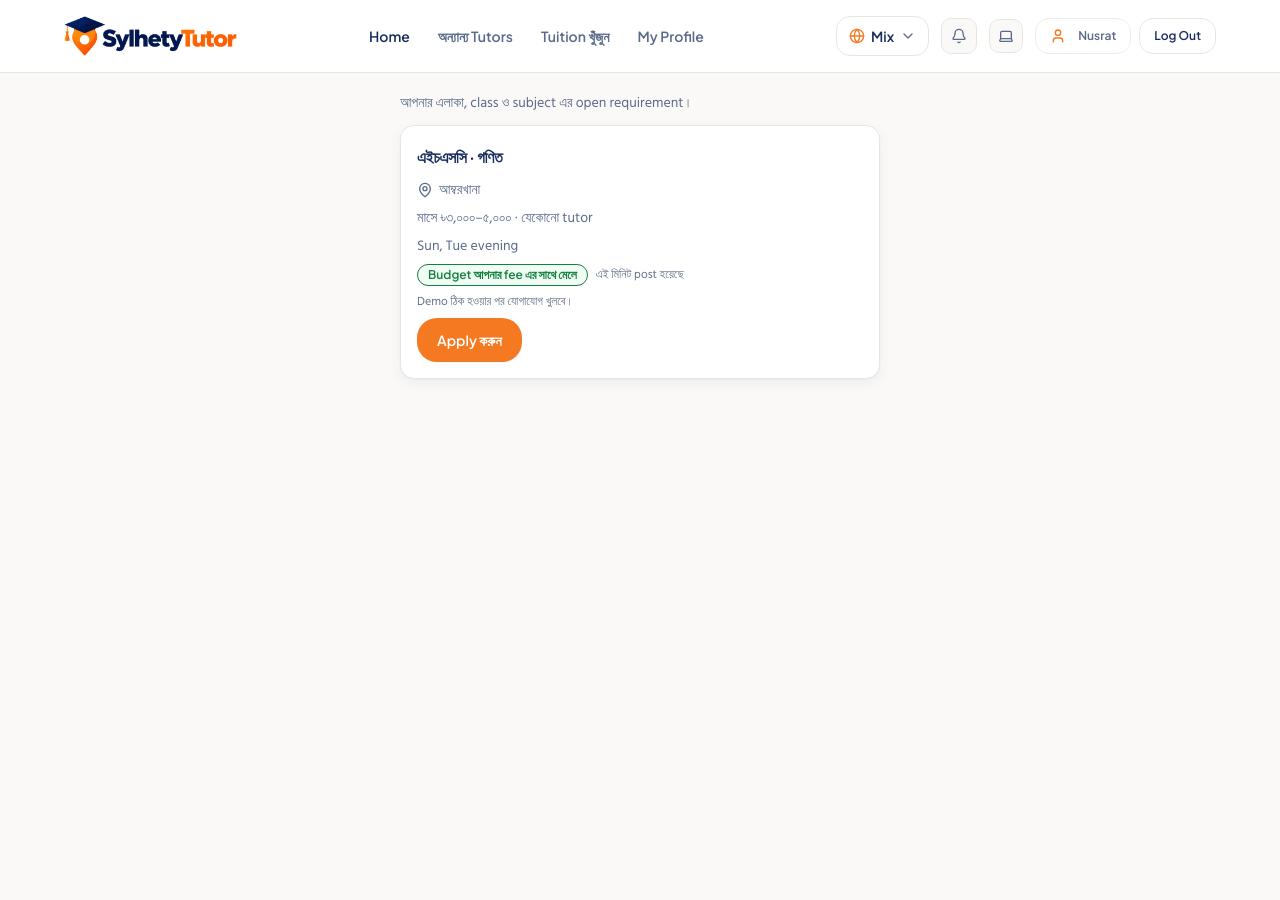
Scenario: TutorRequirements page › sends an application with the note and then shows 'applied'
Click the button "Apply করুন".
click(469, 340)  # box [417, 318, 522, 362]
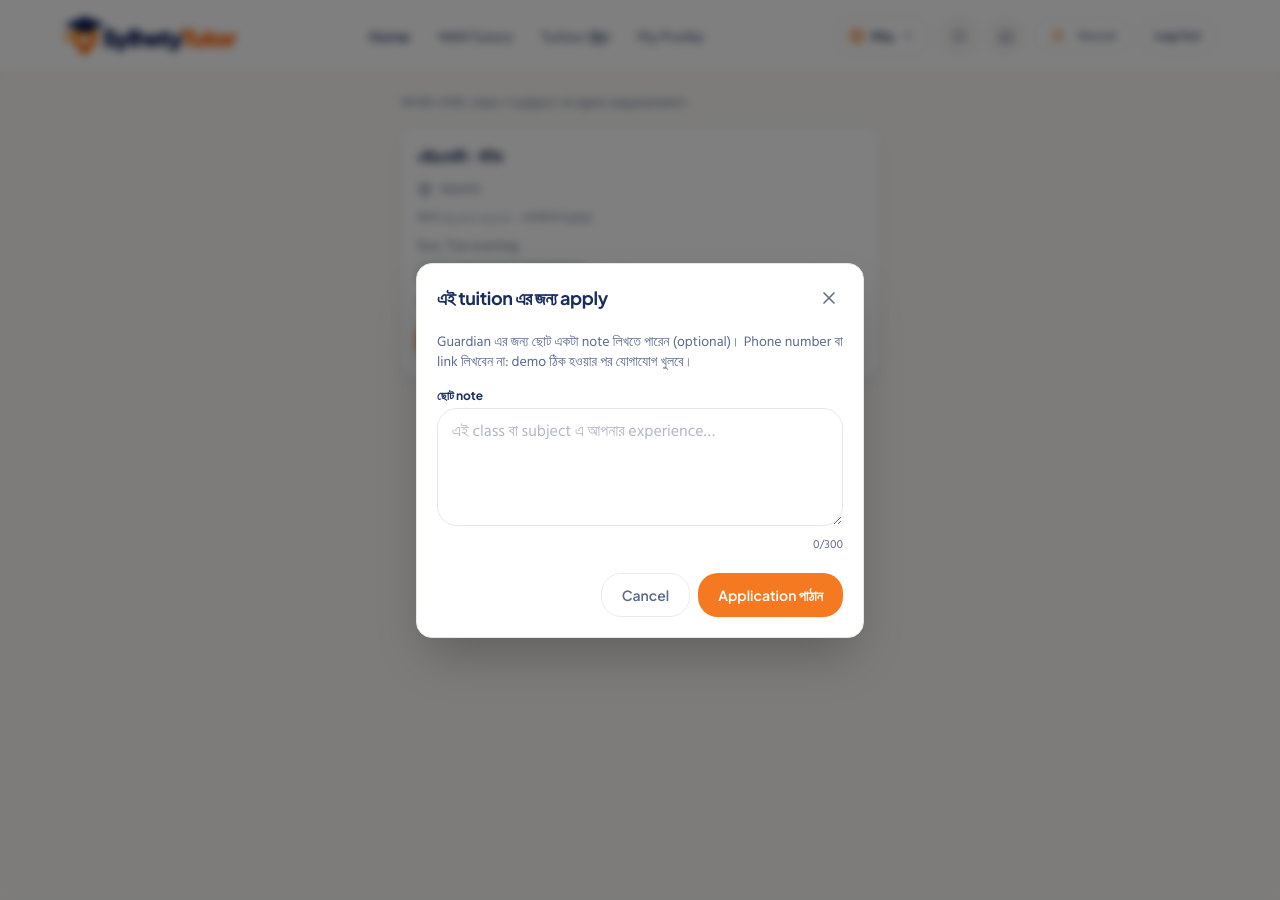
Type "I teach HSC math" into the text box labelled "ছোট note".
click(640, 467); type("I teach HSC math")  # box [437, 408, 843, 526]
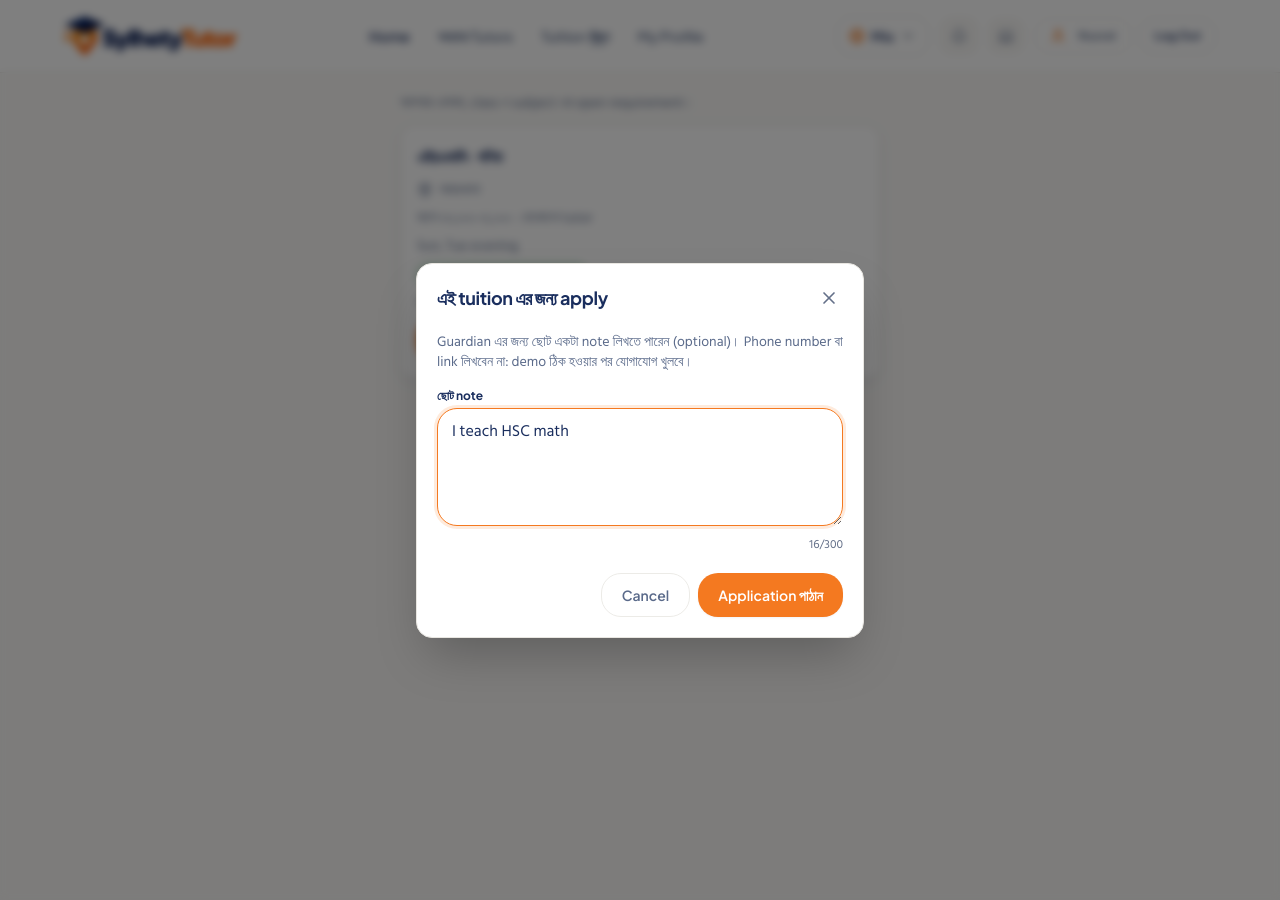
Click the button "Application পাঠান".
click(771, 594)  # box [698, 572, 843, 616]
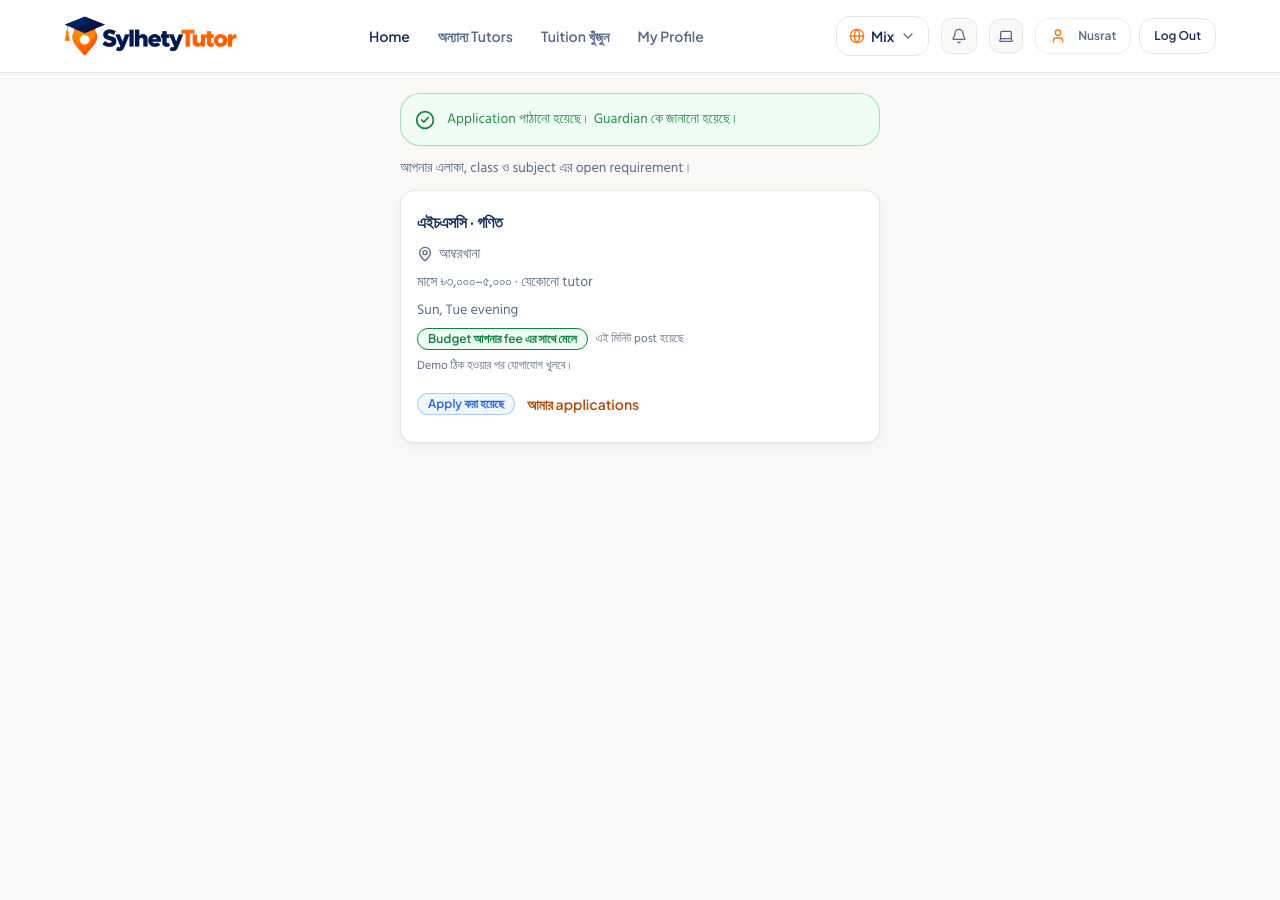
Check: the text "Application পাঠানো হয়েছে। Guardian কে জানানো হয়েছে।" is shown, box [447, 107, 740, 130]
Check: the text "Apply করা হয়েছে" is shown, box [417, 393, 515, 415]
Check: the button "Apply করুন" is gone
